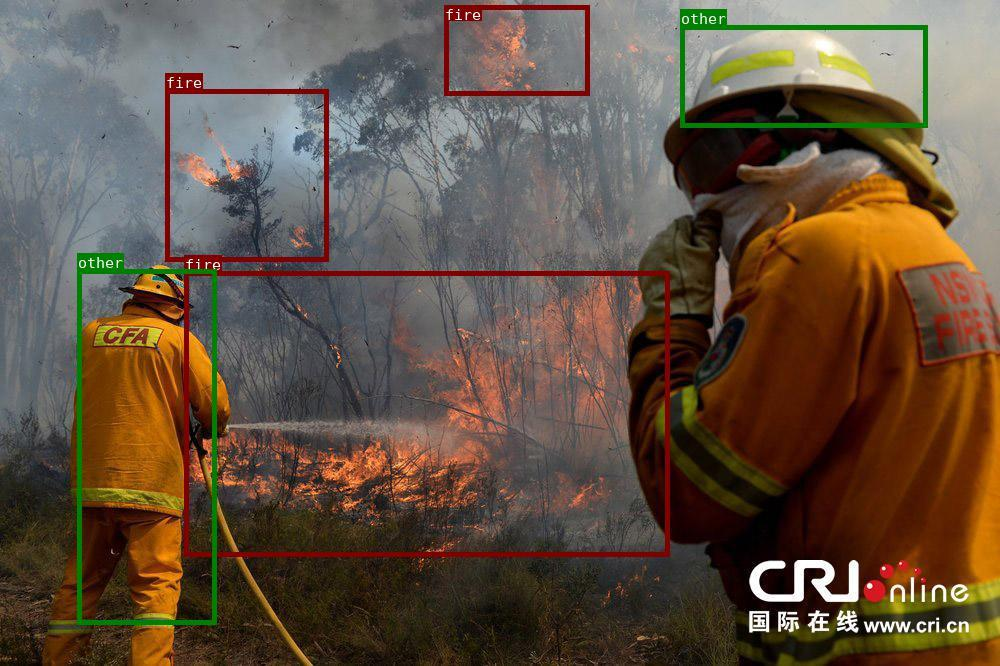fire: (184, 270, 669, 555), (164, 89, 327, 260), (444, 5, 588, 95)
other: (76, 268, 215, 624), (680, 24, 926, 127)
